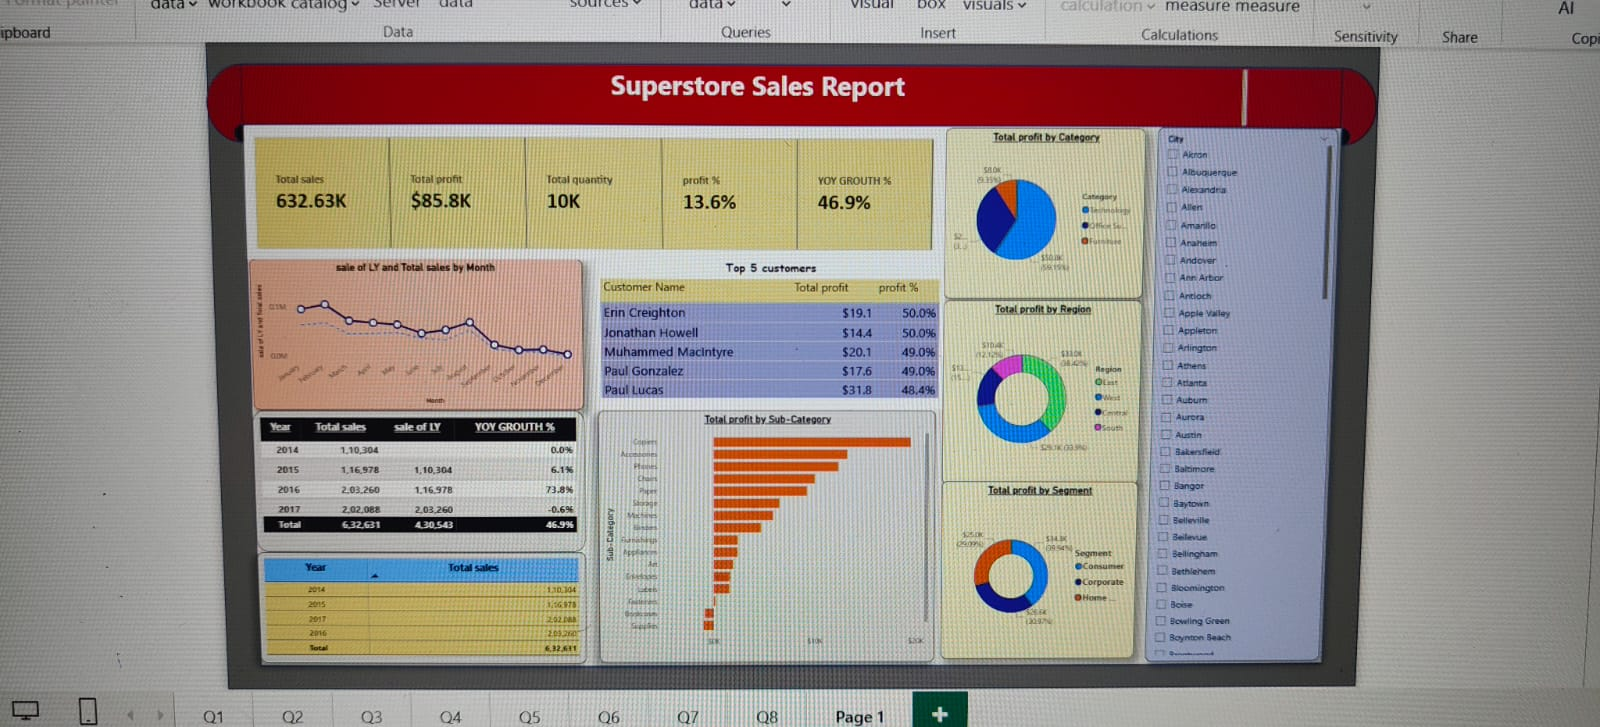

Layout of this report page (visuals, bound fields, positions):
{"tool":"powerbi","page":{"name":"Page 1","canvas":[1920,1080],"ordinal":8},"visuals":[{"type":"lineChart","fields":{"Y":["Sample - Superstore.sale of LY","Sample - Superstore.total sales"],"Category":["Date Table.Month"]},"box":[62.4,351.5,547.1,249.5],"z":0},{"type":"tableEx","fields":{"Values":["Date Table.Year","Sample - Superstore.total sales","Sample - Superstore.sale of LY","Sample - Superstore.YOY GROUTH %"]},"box":[59.5,600.9,549.9,238.1],"z":1000},{"type":"slicer","fields":{"Values":["Sample - Superstore.City"]},"box":[1556.2,133.2,300.5,895.8],"z":3000},{"type":"pieChart","title":"Total profit by Category","fields":{"Category":["Sample - Superstore.Category"],"Y":["Sample - Superstore.total profit"]},"box":[1207.6,136.1,328.8,277.8],"z":4000},{"type":"donutChart","title":"Total profit by Region","fields":{"Y":["Sample - Superstore.total profit"],"Category":["Sample - Superstore.Region"]},"box":[1207.6,416.7,328.8,309],"z":5000},{"type":"clusteredBarChart","title":"Total profit by Sub-Category","fields":{"Category":["Sample - Superstore.Sub-Category"],"Y":["Sample - Superstore.total profit"]},"box":[632.1,600.9,564.1,428],"z":7000},{"type":"tableEx","title":"Total sales by year","fields":{"Values":["Date Table.Year","Sample - Superstore.total sales"]},"box":[59.5,839.1,549.9,189.9],"z":7001},{"type":"donutChart","title":"Total profit by Segment","fields":{"Y":["Sample - Superstore.total profit"],"Category":["Sample - Superstore.Segment"]},"box":[1207.6,720,328.8,303.3],"z":7002},{"type":"cardVisual","fields":{"Data":["Sample - Superstore.Total sales","Sample - Superstore.Total profit","Sample - Superstore.Total quantity","Sample - Superstore.profit %","Sample - Superstore.YOY GROUTH %"]},"box":[59.5,136.1,1148,215.4],"z":7003},{"type":"tableEx","title":"Top 5 customers","fields":{"Values":["Sample - Superstore.Customer Name","Sample - Superstore.total profit","Sample - Superstore.profit %"]},"box":[632.1,351.5,575.4,249.5],"z":7004},{"type":"textbox","box":[99.2,34,1607.3,102],"z":7005}]}

Visuals, with their boxes on the page's 1920x1080 design canvas (x1, y1, x2, y2). These are canvas units, not pixel positions in the 1600x727 screenshot, which may show the page scaled, cropped or inside an application window:
lineChart - Sample - Superstore.sale of LY x Sample - Superstore.total sales: box=[62, 352, 610, 601]
tableEx - Date Table.Year x Sample - Superstore.total sales: box=[60, 601, 609, 839]
slicer - Sample - Superstore.City: box=[1556, 133, 1857, 1029]
"Total profit by Category" pieChart: box=[1208, 136, 1536, 414]
"Total profit by Region" donutChart: box=[1208, 417, 1536, 726]
"Total profit by Sub-Category" clusteredBarChart: box=[632, 601, 1196, 1029]
"Total sales by year" tableEx: box=[60, 839, 609, 1029]
"Total profit by Segment" donutChart: box=[1208, 720, 1536, 1023]
cardVisual - Sample - Superstore.Total sales x Sample - Superstore.Total profit: box=[60, 136, 1208, 352]
"Top 5 customers" tableEx: box=[632, 352, 1208, 601]
textbox: box=[99, 34, 1706, 136]
